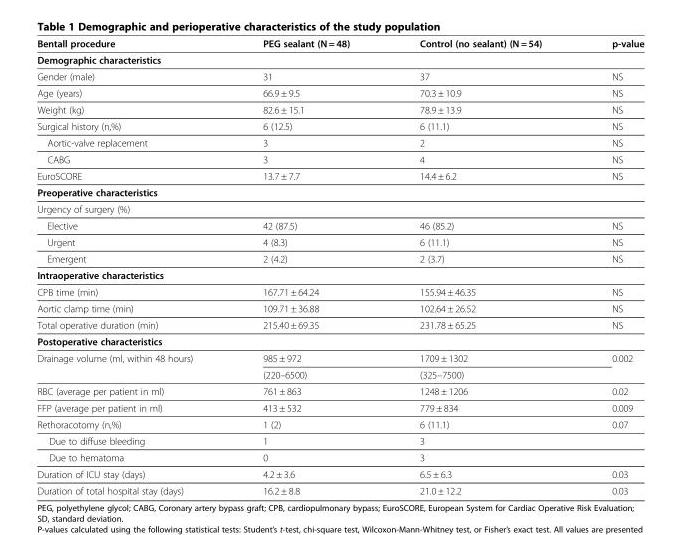table: (36, 37, 643, 496)
table column: (384, 37, 576, 496), (36, 37, 227, 496), (227, 37, 384, 496), (576, 37, 643, 496)
table column header: (36, 37, 643, 51)
table projected row header: (36, 183, 643, 200), (36, 200, 643, 217), (36, 266, 643, 283), (36, 332, 643, 349), (36, 51, 643, 67)
table row: (36, 67, 643, 84), (36, 84, 643, 101), (36, 117, 643, 134), (36, 150, 643, 167), (36, 183, 643, 200), (36, 200, 643, 217), (36, 233, 643, 250), (36, 266, 643, 283), (36, 299, 643, 316), (36, 332, 643, 349), (36, 349, 643, 366), (36, 382, 643, 399), (36, 415, 643, 432), (36, 448, 643, 465), (36, 465, 643, 482), (36, 51, 643, 67), (36, 101, 643, 117), (36, 134, 643, 150), (36, 167, 643, 183), (36, 217, 643, 233), (36, 250, 643, 266), (36, 283, 643, 299), (36, 316, 643, 332), (36, 366, 643, 382), (36, 399, 643, 415), (36, 432, 643, 448), (36, 37, 643, 51), (36, 482, 643, 496)
table spanning cell: (36, 349, 227, 382), (576, 349, 643, 382)
